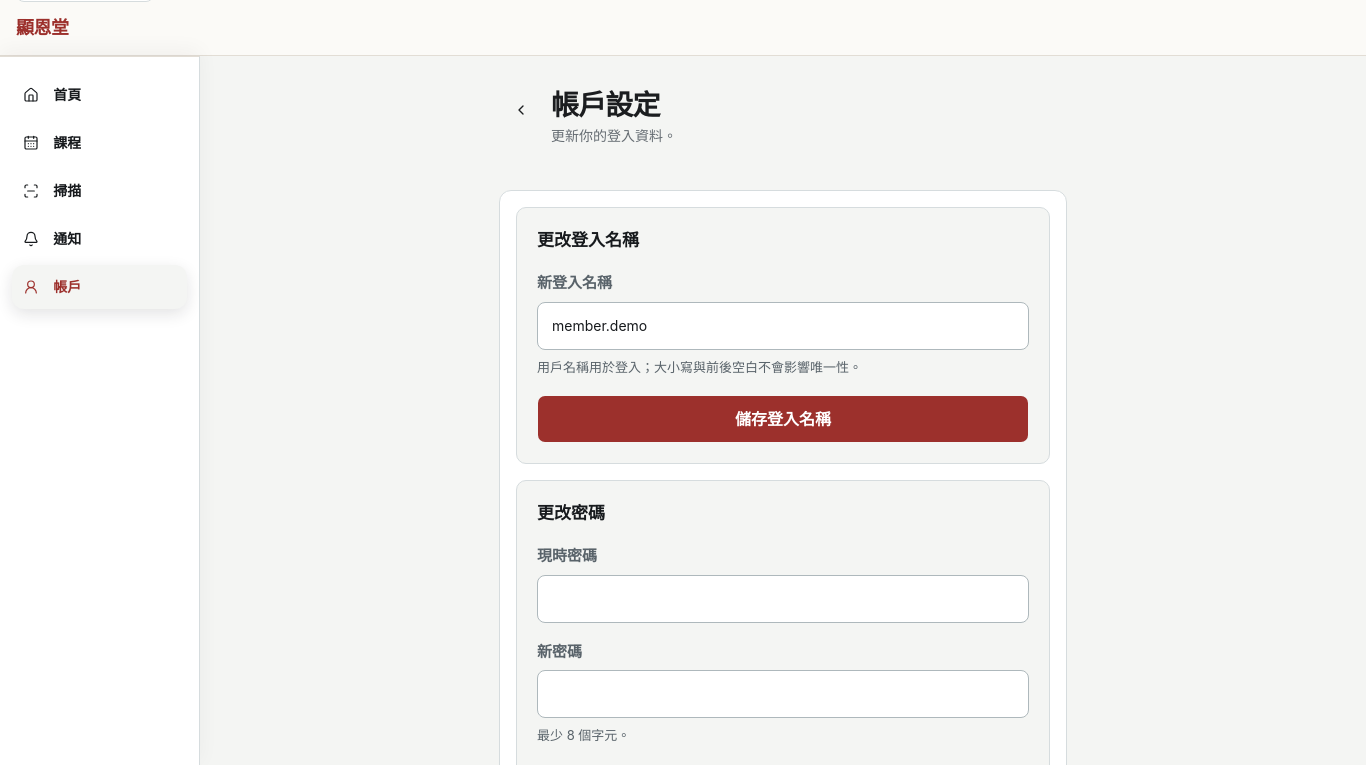
it: SettingsPage › password success revokes the session and routes through sign-in
This screenshot has width=1366, height=765.
Expected: the heading "帳戶設定" is shown, [551,88,660,122]
Clear the password field labelled "現時密碼" at (783, 599), box [537,575,1029,623]
Clear the password field labelled "新密碼" at (783, 694), box [537,670,1029,718]
(page scrolled)
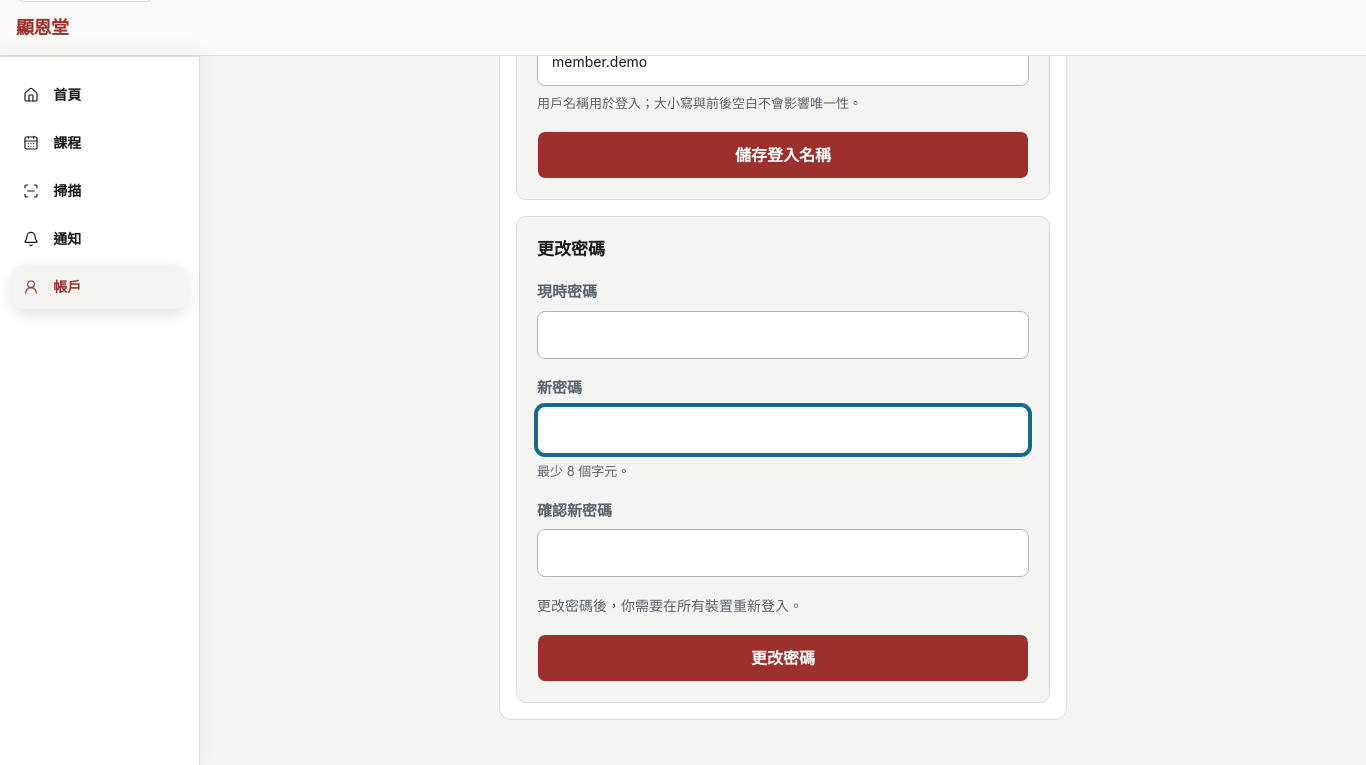
Clear the password field labelled "確認新密碼" at (783, 553), box [537,529,1029,577]
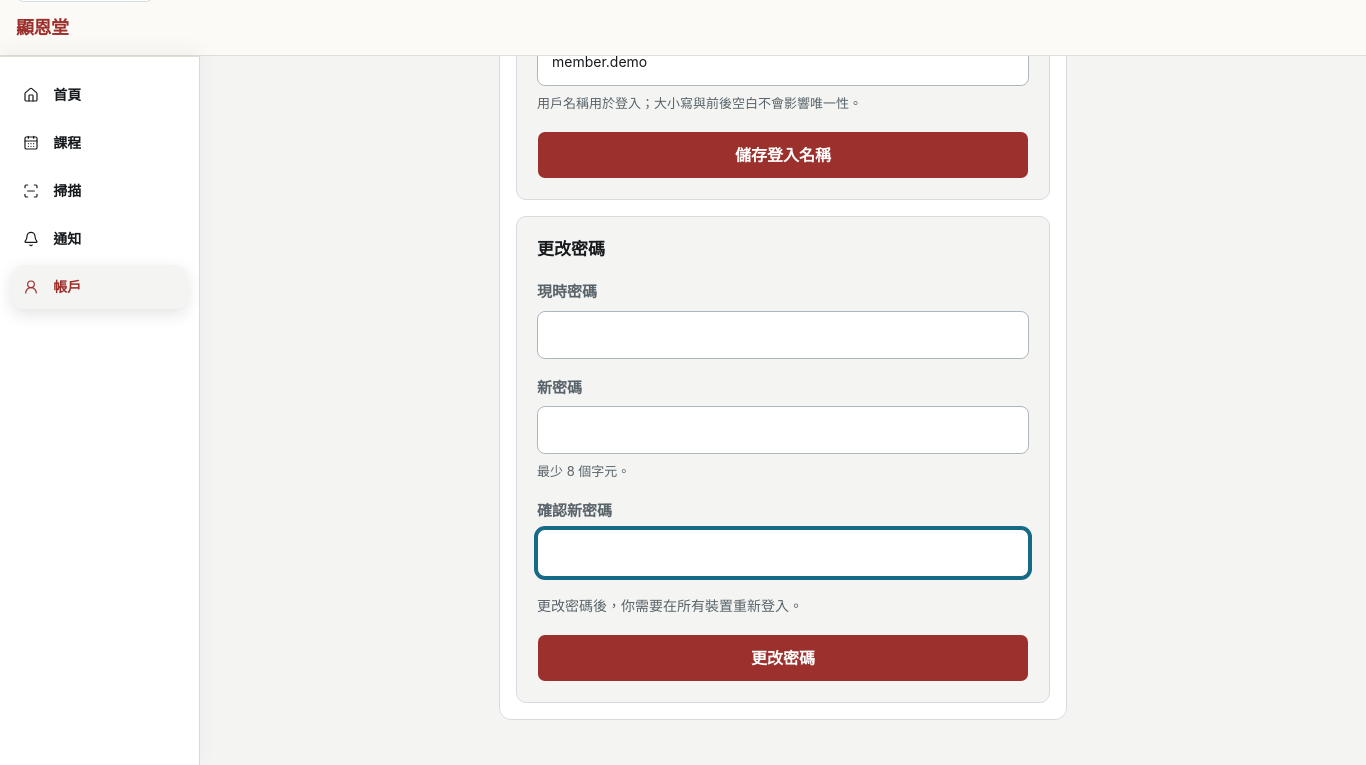
Type "curr-pass-123" into the password field labelled "現時密碼".
click(783, 335); type("curr-pass-123")  # box [537,311,1029,359]
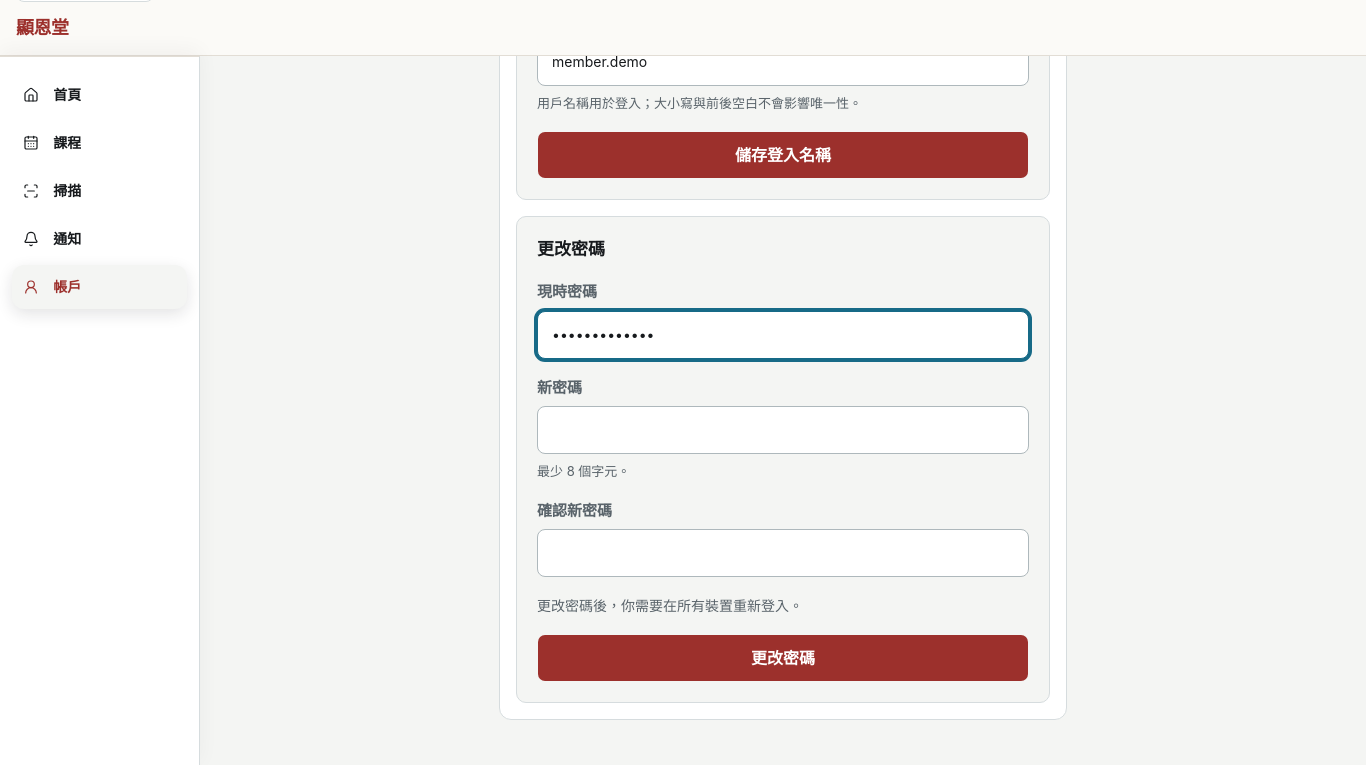
Type "new-secret-888" into the password field labelled "新密碼".
click(783, 430); type("new-secret-888")  # box [537,406,1029,454]
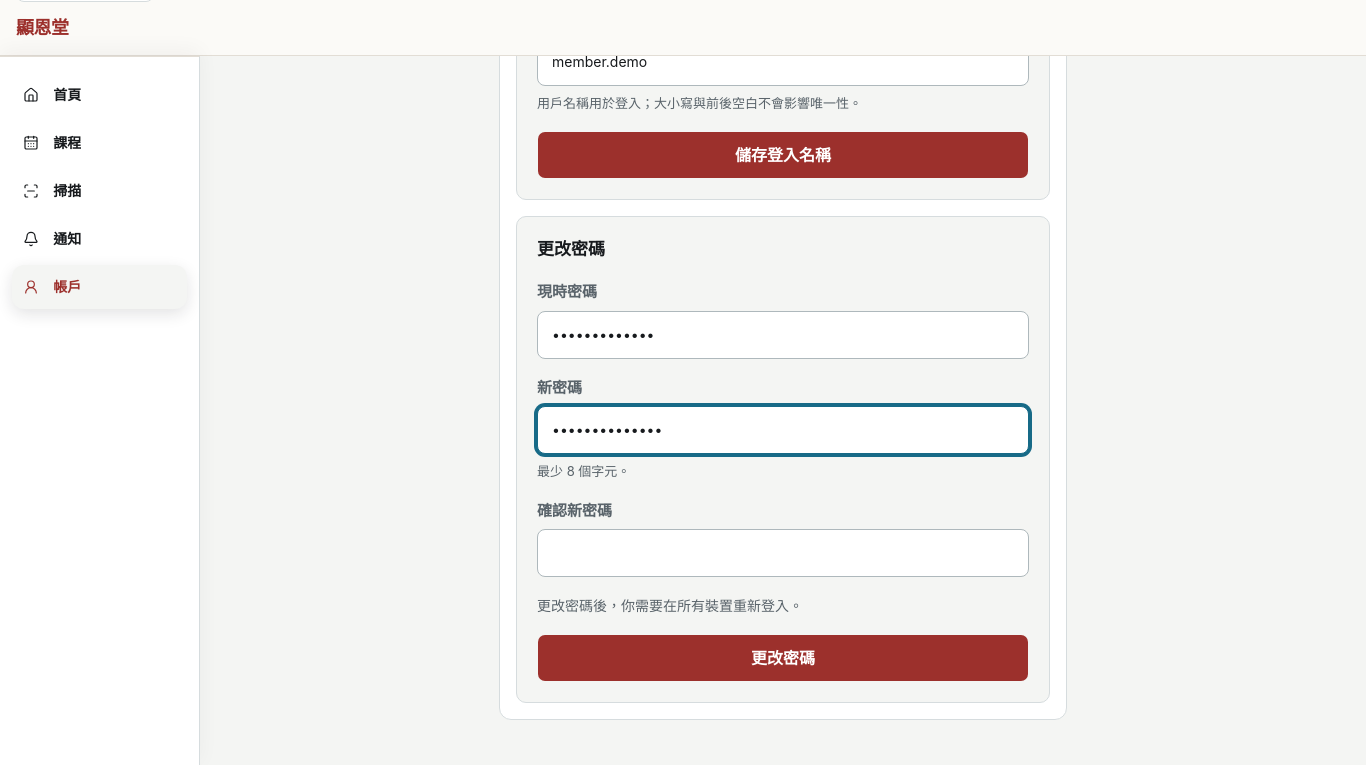
Type "new-secret-888" into the password field labelled "確認新密碼".
click(783, 553); type("new-secret-888")  # box [537,529,1029,577]
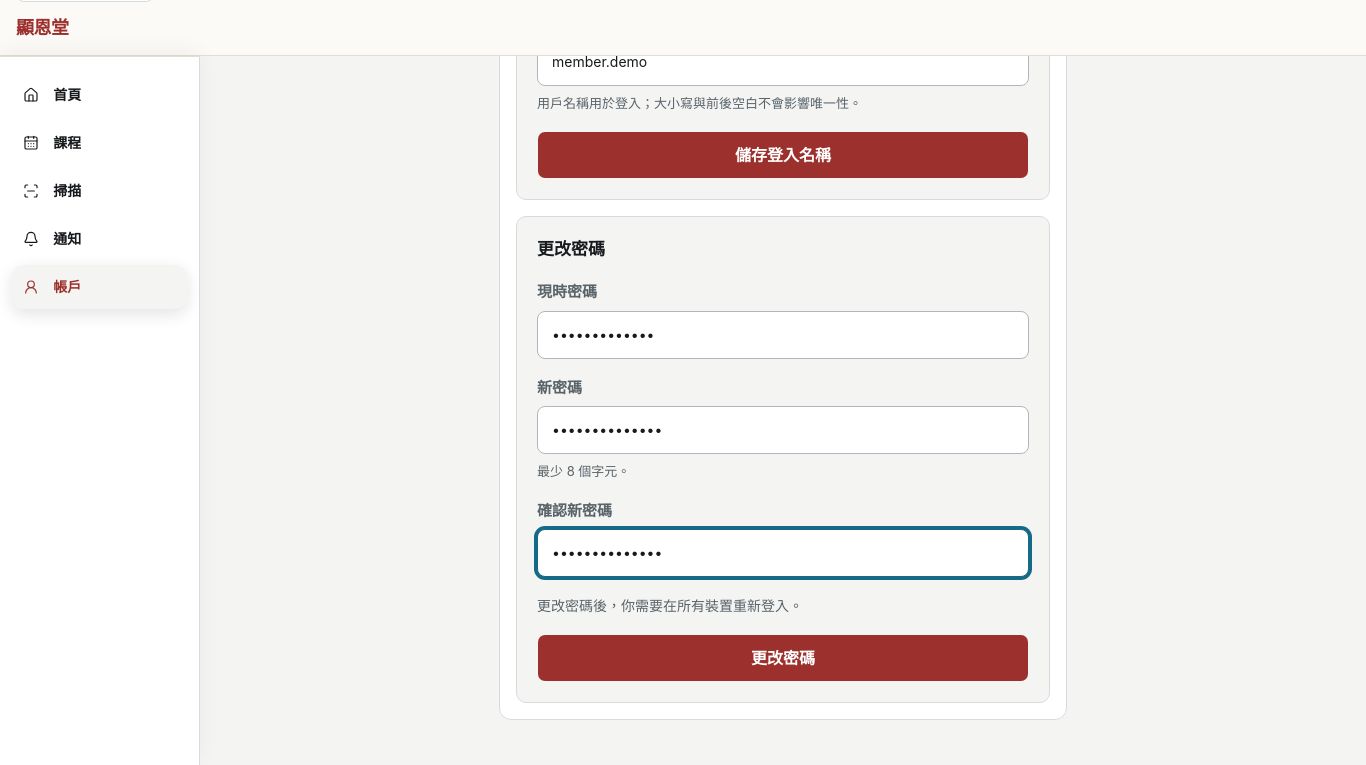
Click the button "更改密碼".
click(783, 658)  # box [537,634,1029,682]
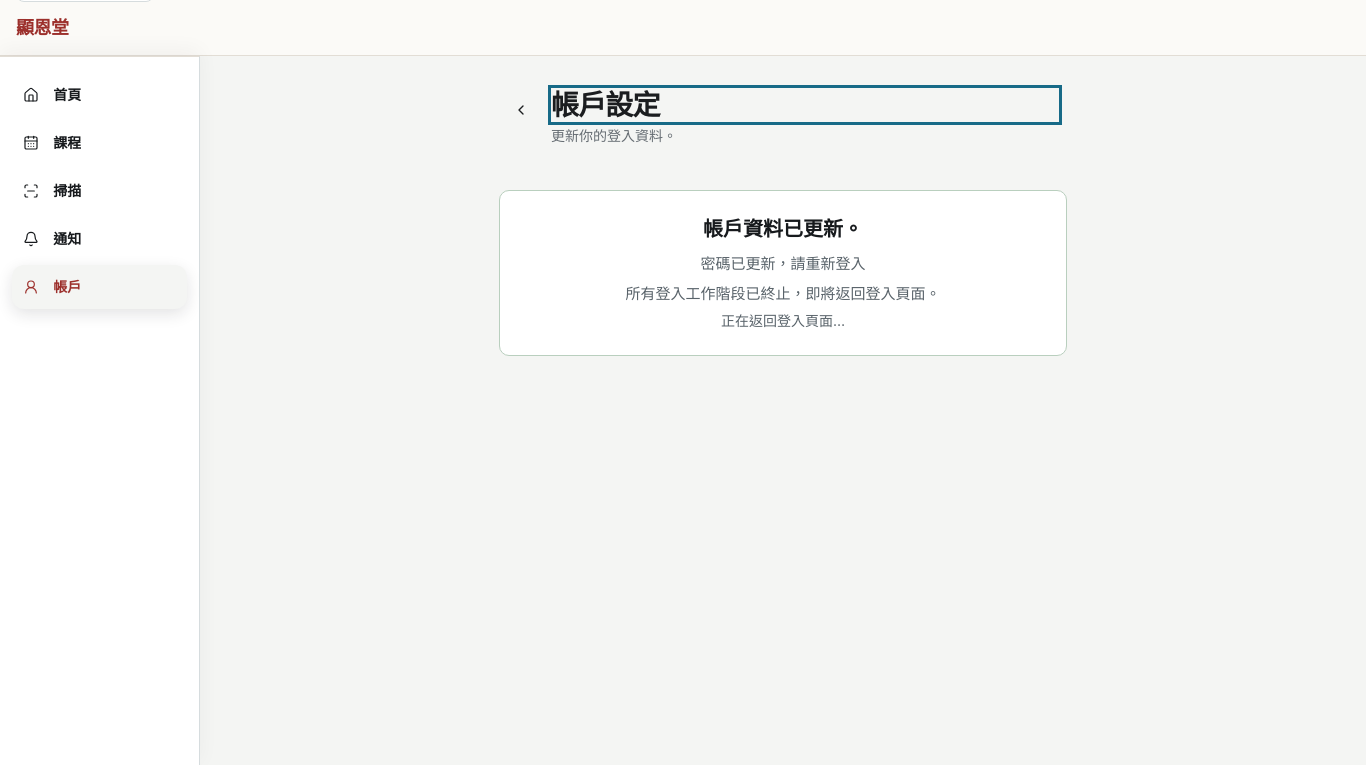
Expected: the text "密碼已更新，請重新登入" is shown, [700,254,866,273]
